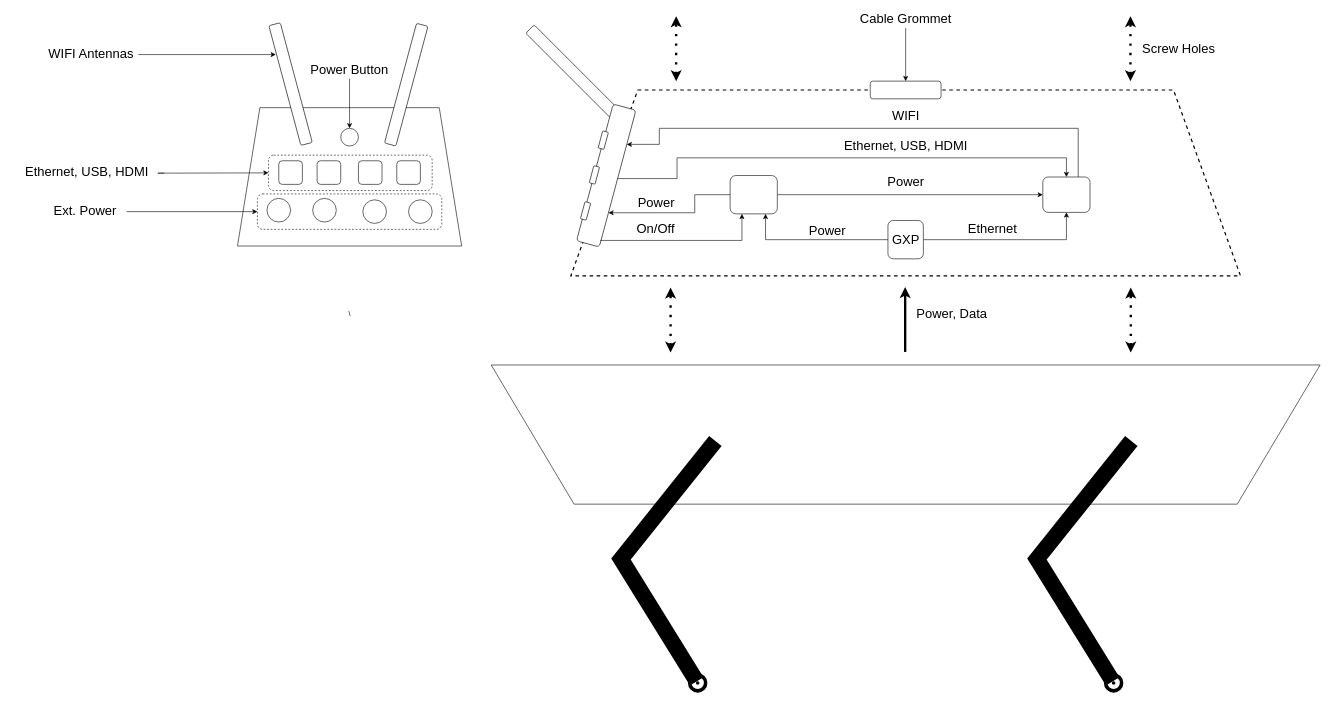
The diagram is 1330 pixels wide and 706 high, and some of its shapes have lost their labels. The shapes that lost their labels are listed below. From the top down, each one's centre as x and y in pixels, then its label:
[753,194]: PWR Distr.
[1066,194]: PC
